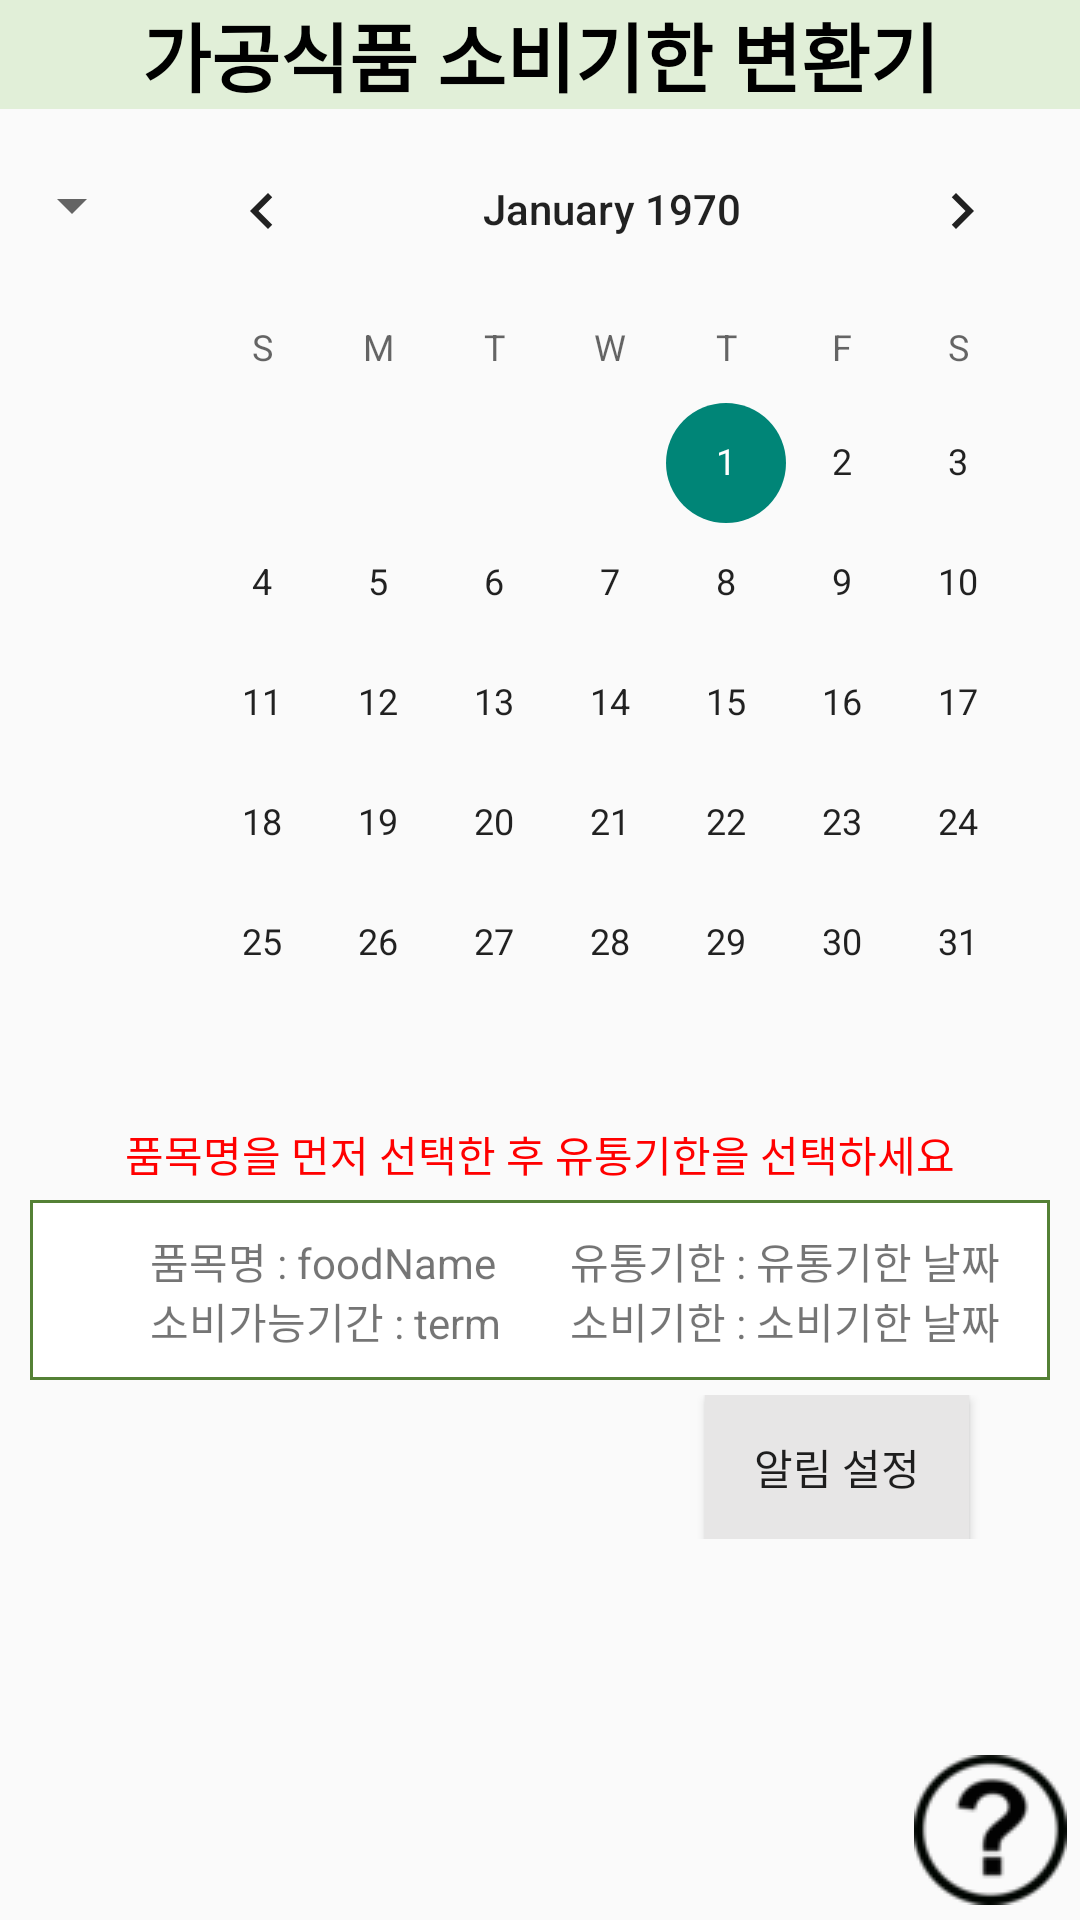

Point at icon controls on the screen. Image size 1080w x 1920h, points as point (x, y).
question: point (990, 1830)
